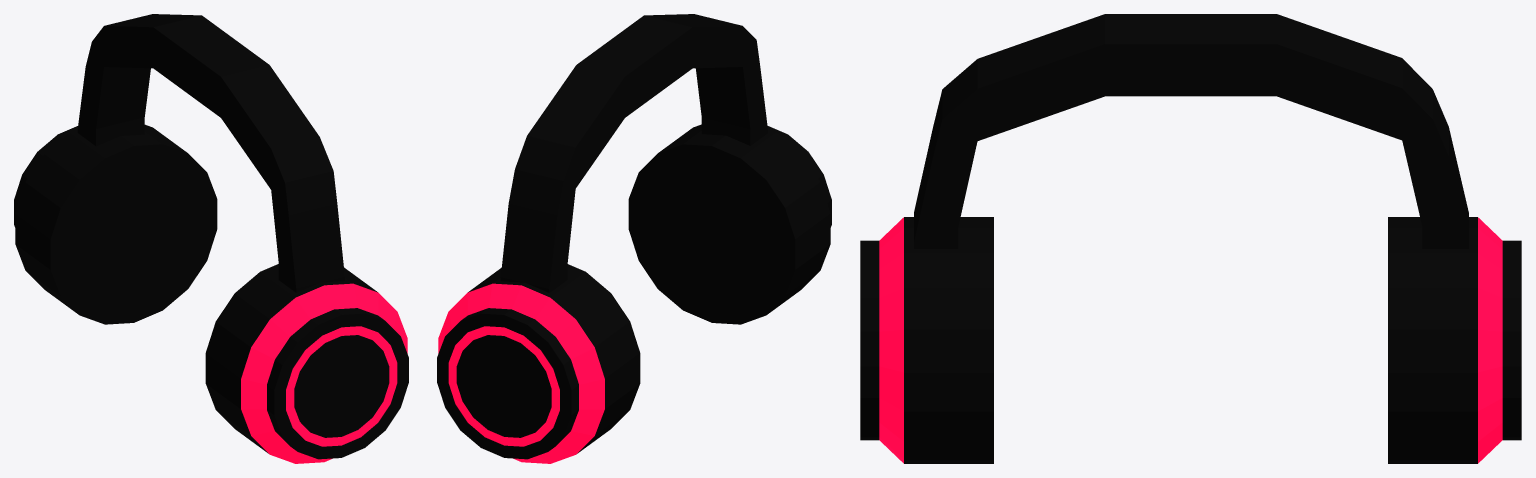
File: chicken_acc_headphones.fbx
The picture shows the model from 3 angles, left to right: view 1: azimuth 30°, elevation 25°; view 2: azimuth 150°, elevation 25°; view 3: azimuth 270°, elevation 25°; orthographic projection. The views are drawn at different scales.
Visible parts, largest first — view 1: Cube; view 2: Cube; view 3: Cube.
Boxes of the visible parts, x1,y1,x2,y2 form: Cube: [14, 14, 408, 463]; Cube: [437, 14, 831, 463]; Cube: [860, 14, 1521, 463].
Bounding box in the file's own units: 440 × 842 × 1191.
